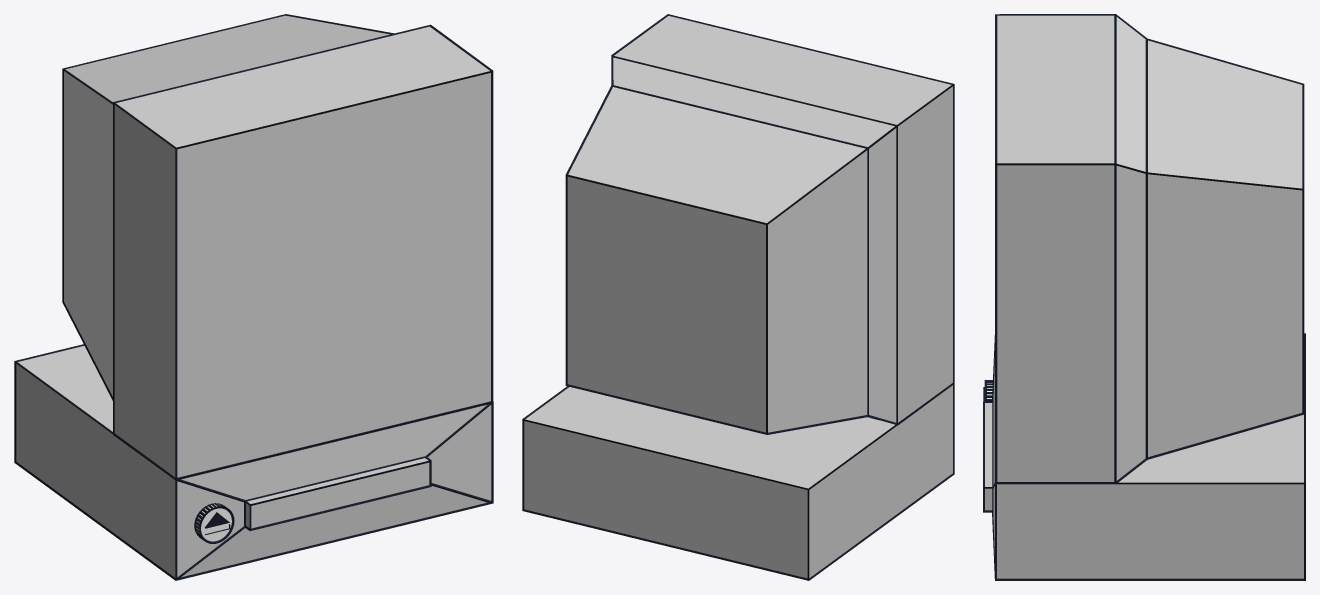
Rendered from vhs_vcr_crt.glb.
The picture shows the model from 3 angles, left to right: view 1: azimuth 30°, elevation 25°; view 2: azimuth 150°, elevation 25°; view 3: azimuth 270°, elevation 25°; orthographic projection. The views are drawn at different scales.
Parts seen in each view (by area): view 1: CRT, VCR, VHS, BACK; view 2: CRT, VCR; view 3: CRT, VCR, VHS.
Boxes of the visible parts, x1,y1,x2,y2 form: CRT: (62,14,493,480); VCR: (14,344,493,580); VHS: (245,457,431,530); BACK: (194,503,234,543); CRT: (565,14,954,434); VCR: (522,383,954,580); CRT: (995,14,1304,484); VCR: (992,333,1305,580); VHS: (983,401,992,512).
Size of the model in its own units: 6.62 by 8.62 by 6.04.
